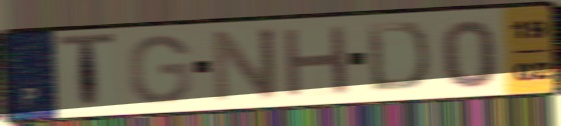0: (438, 15, 501, 91)
D: (363, 20, 433, 95)
G: (127, 32, 194, 106)
H: (280, 22, 352, 100)
N: (210, 24, 281, 106)
T: (55, 30, 118, 113)
